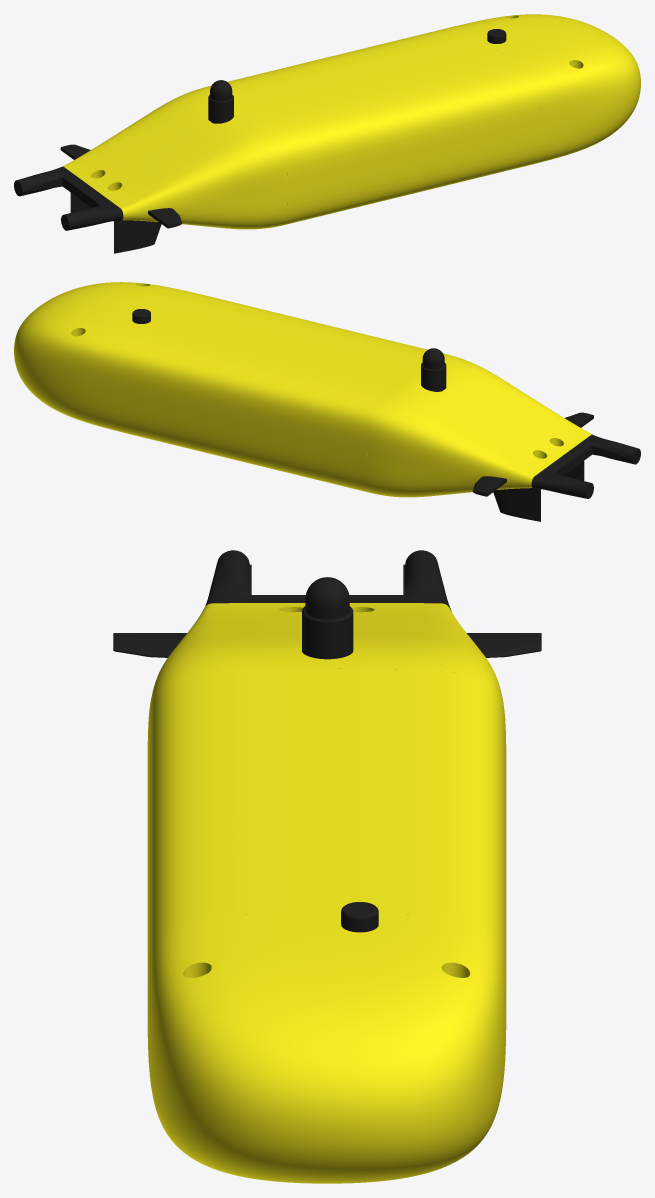
The model's file is lolo_hull.dae.
3 renders of one model, top to bottom at view 1: azimuth 30°, elevation 25°; view 2: azimuth 150°, elevation 25°; view 3: azimuth 270°, elevation 25°, orthographic. The views are drawn at different scales.
Visible parts, largest first — view 1: Brep (×6), Solid1; view 2: Brep (×6), Solid1; view 3: Brep (×6), Solid1 (×2).
Part boxes in pixels (x1,y1,x2,y2): Brep (×6): [14, 14, 640, 253]; Solid1: [208, 80, 233, 123]; Brep (×6): [14, 282, 640, 521]; Solid1: [421, 348, 446, 391]; Brep (×6): [113, 550, 541, 1183]; Solid1 (×2): [302, 577, 378, 932].
Bounding box in the file's own units: 3952 × 1255 × 821.
